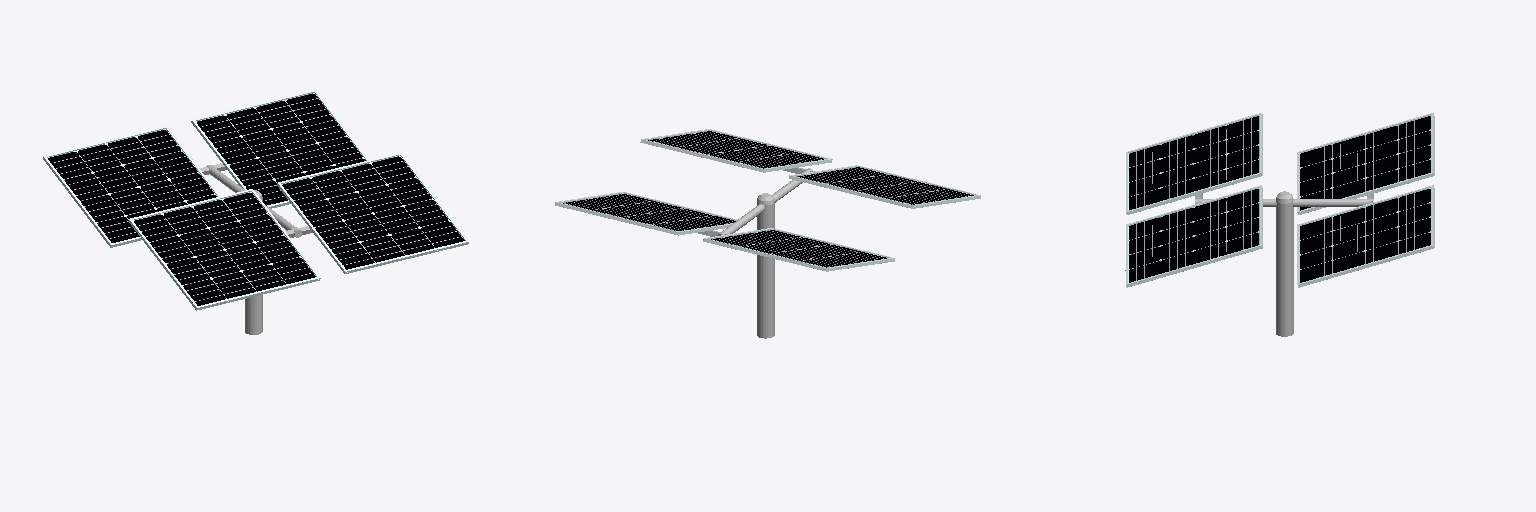
The model's file is sun-panel.obj.
3 renders of one model, left to right at view 1: azimuth 30°, elevation 25°; view 2: azimuth 150°, elevation 25°; view 3: azimuth 270°, elevation 25°, orthographic.
Visible parts, largest first — view 1: panel_Plane, lines, Cylinder, Cylinder.001; view 2: panel_Plane, lines, Cylinder, Cylinder.001; view 3: panel_Plane, lines, Cylinder, Cylinder.001.
Part boxes in pixels (bbox=[...]): panel_Plane: bbox=[43, 90, 468, 310]; lines: bbox=[48, 93, 462, 301]; Cylinder: bbox=[245, 190, 262, 334]; Cylinder.001: bbox=[206, 165, 301, 237]; panel_Plane: bbox=[555, 129, 980, 271]; lines: bbox=[564, 131, 968, 267]; Cylinder: bbox=[757, 193, 774, 338]; Cylinder.001: bbox=[717, 168, 812, 235]; panel_Plane: bbox=[1126, 113, 1434, 287]; lines: bbox=[1130, 116, 1428, 280]; Cylinder: bbox=[1276, 191, 1293, 336]; Cylinder.001: bbox=[1195, 199, 1373, 206].
Size of the model in its own units: 0.22 by 0.1189 by 0.2162.